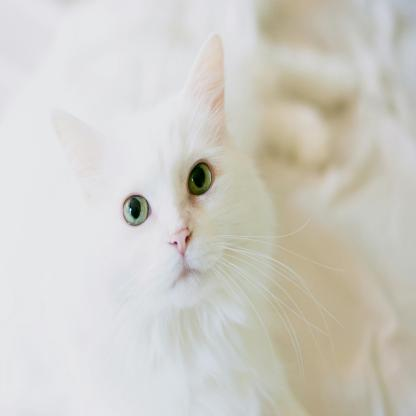cat: (48, 29, 284, 412)
